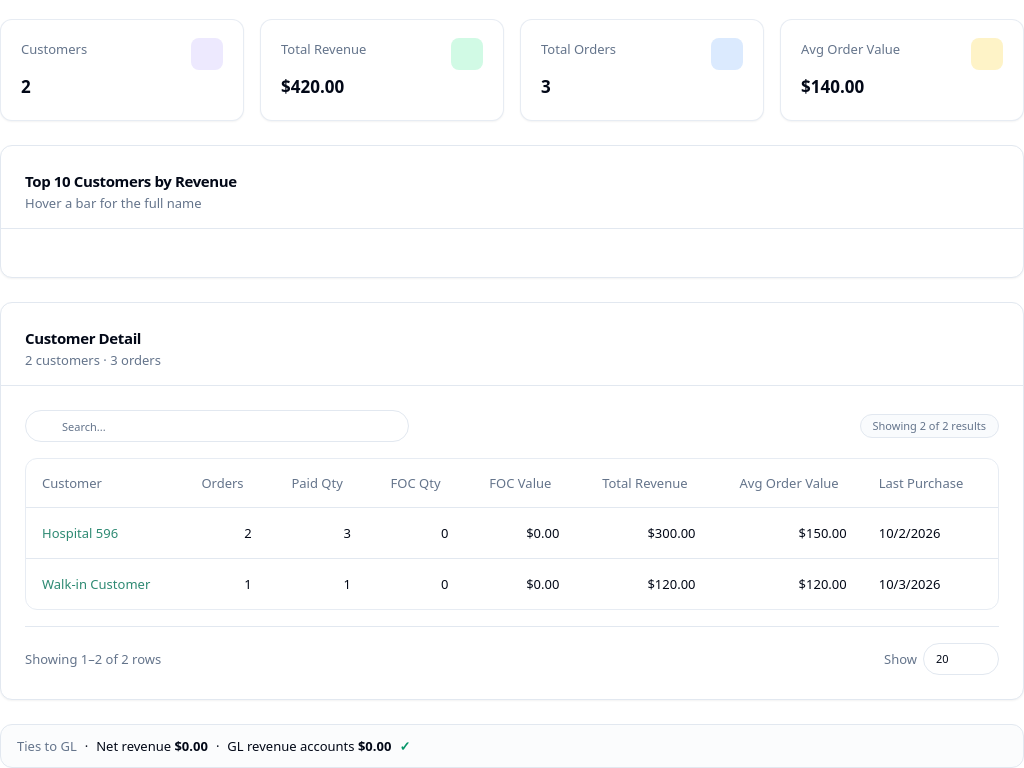
Scenario: SalesAnalyticsPage drill-down (#596) › opens a side panel of the customer row source documents with links and a total equal to the row
This screenshot has width=1024, height=768.
(page scrolled)
Click the button with aria-label "Show documents for Hospital 596". click: (80, 532)
box: [42, 524, 118, 542]
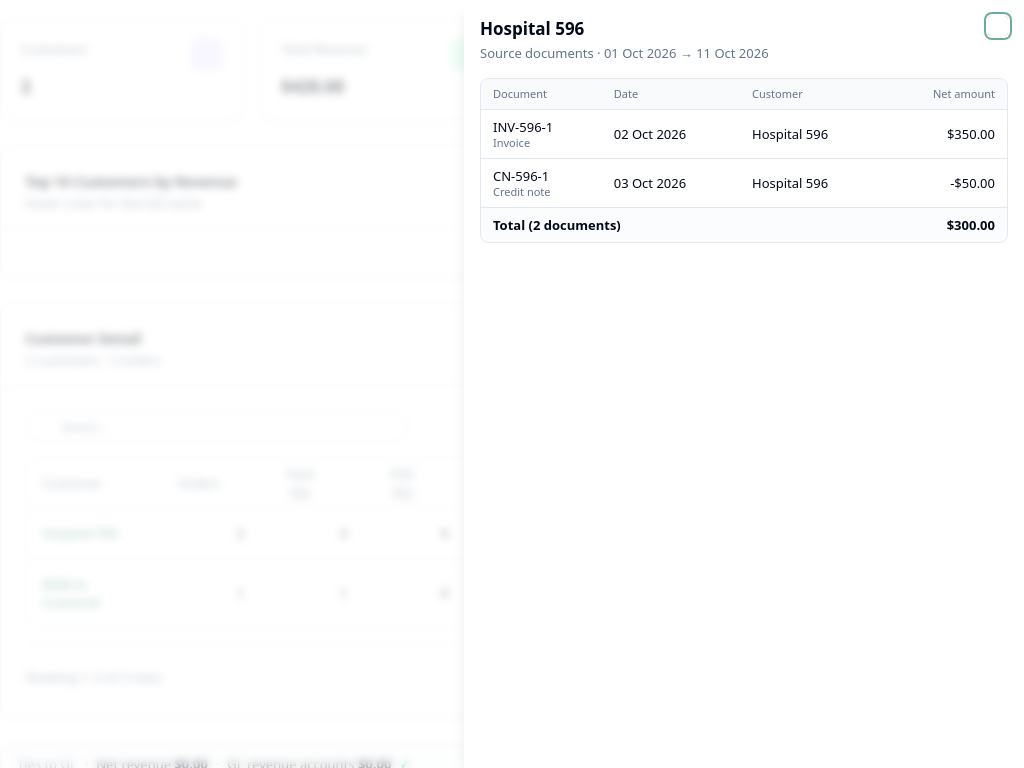
expect the link "INV-596-1" is shown: met, box [493, 118, 553, 136]
